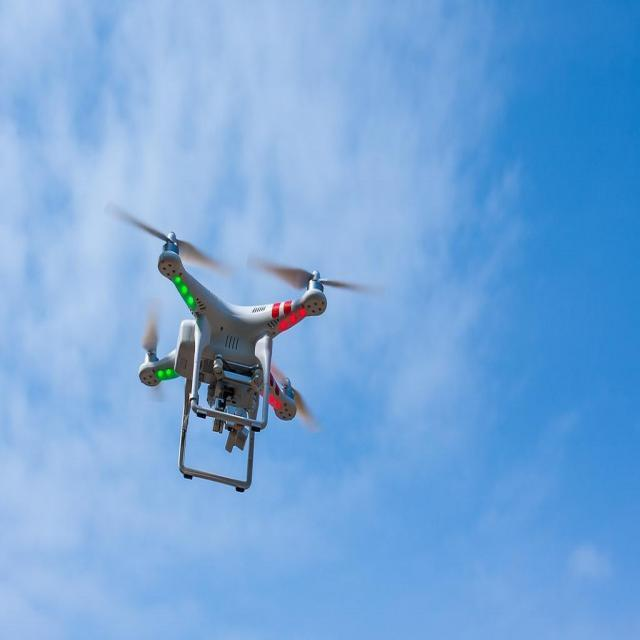UAV: (137, 232, 329, 498)
